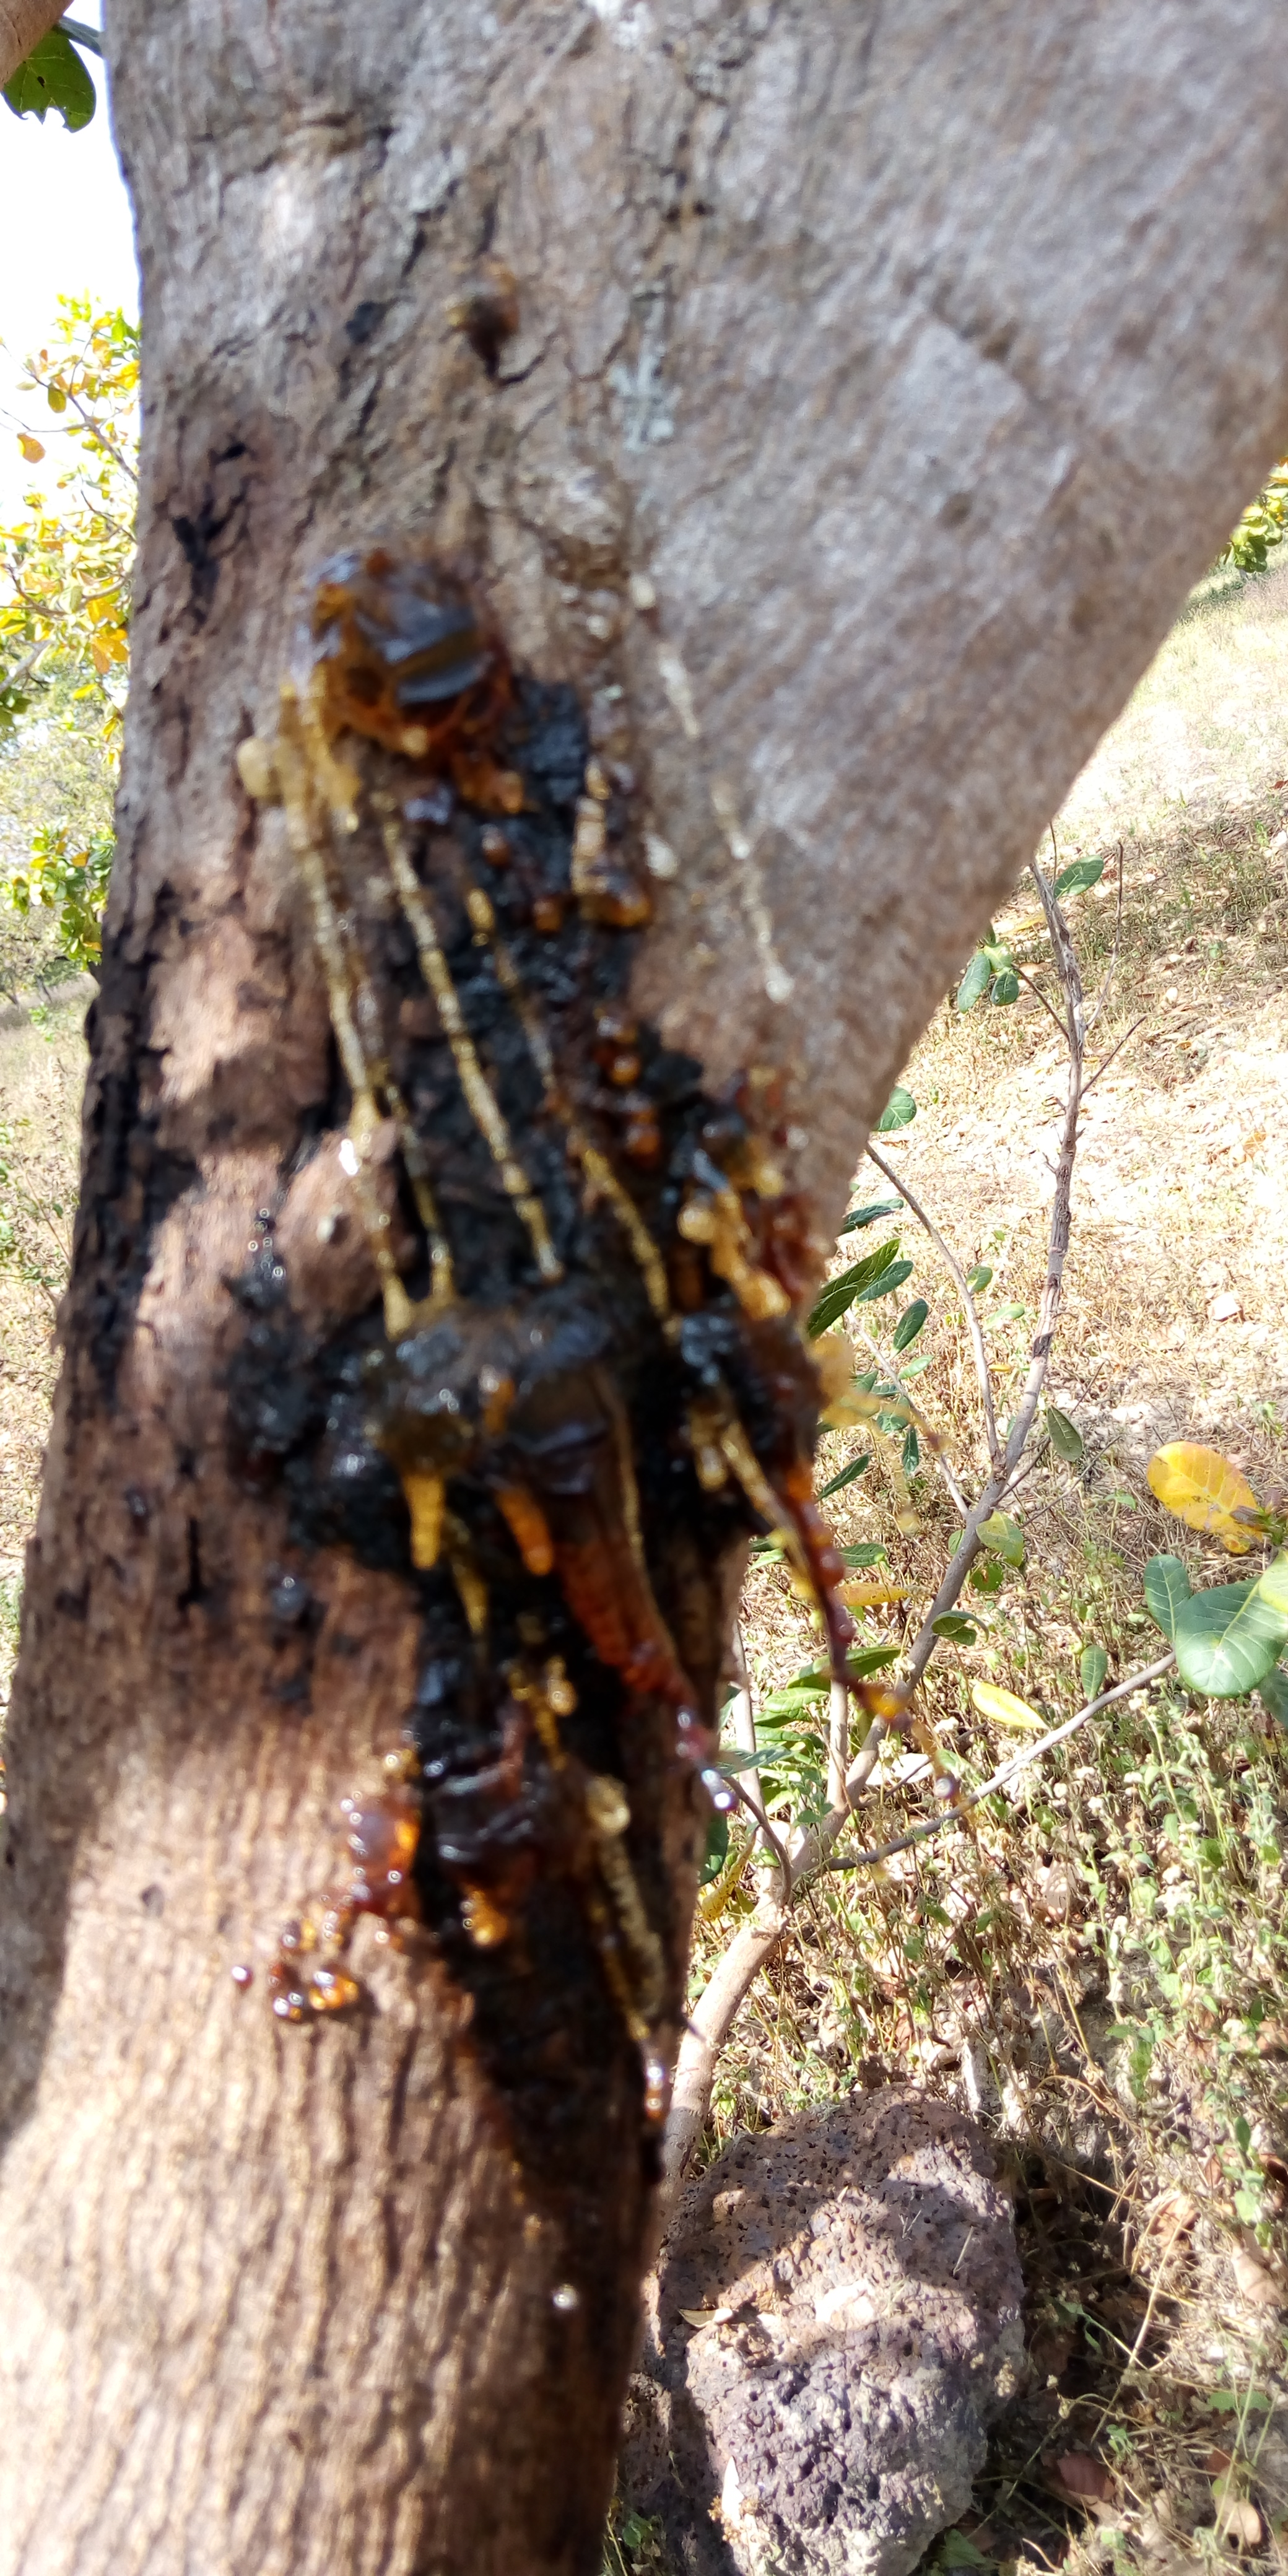Gommose: (251, 549, 833, 2229)
